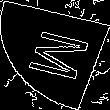M_E: (17, 25, 93, 85)
